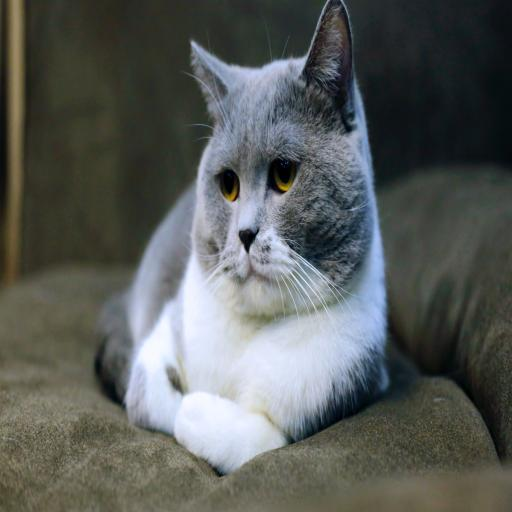cats: (72, 22, 440, 486)
